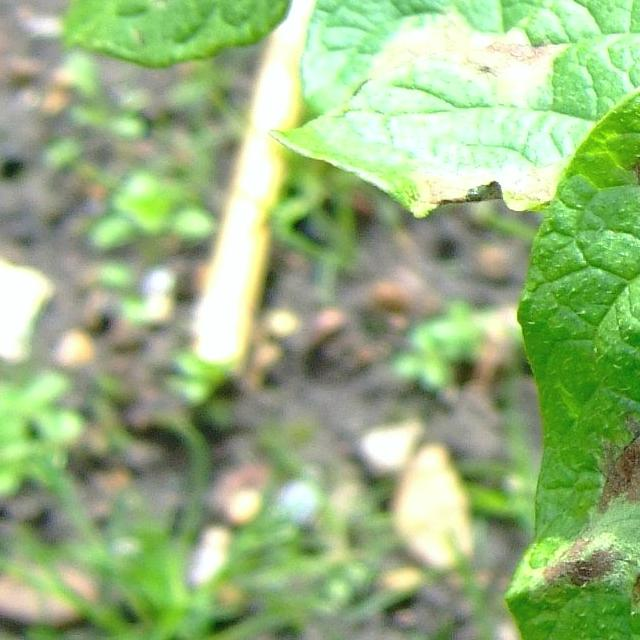Tomato leaf late blight: (465, 64, 640, 640)
